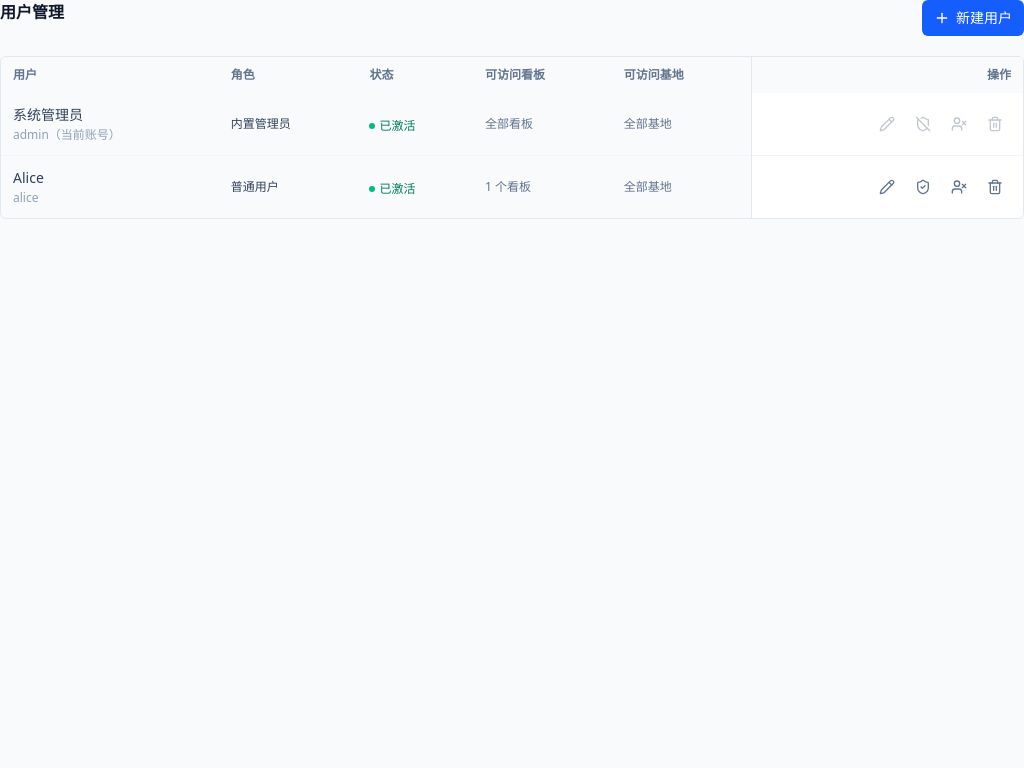
user administrator roles › saves an administrator role selected in the user editor
Click the button named "编辑用户" in the row of "普通用户" at (887,187), box [871,171,903,203]
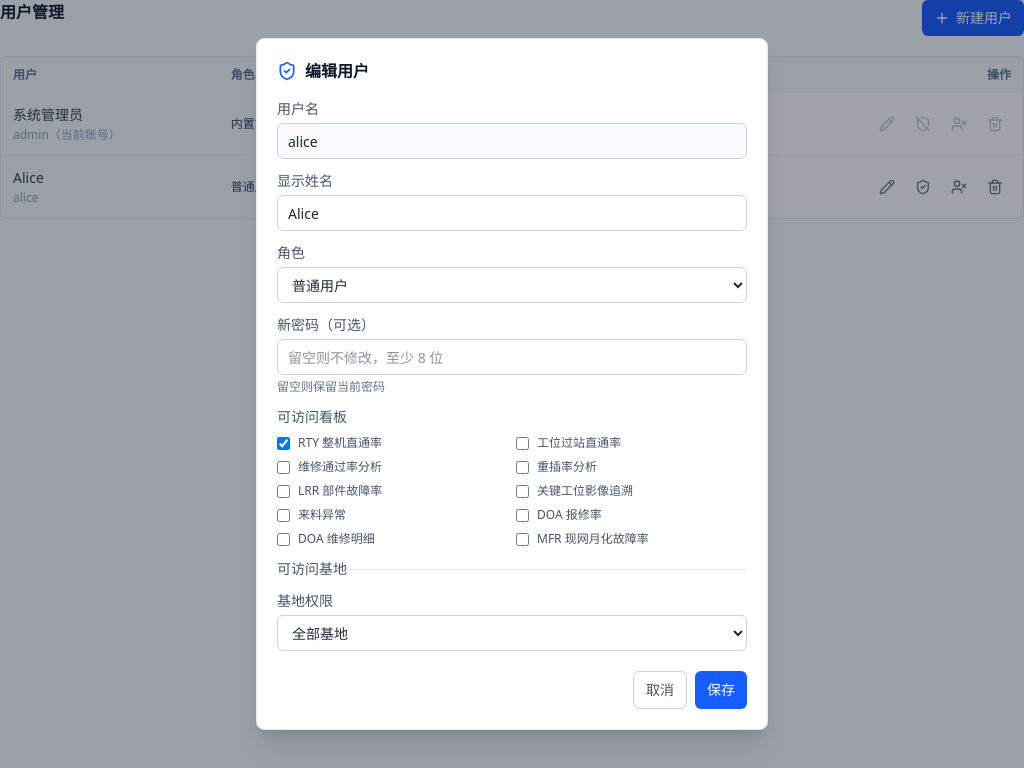
Select "管理员" in the dropdown labelled "角色" at (512,285), box [277,267,747,303]
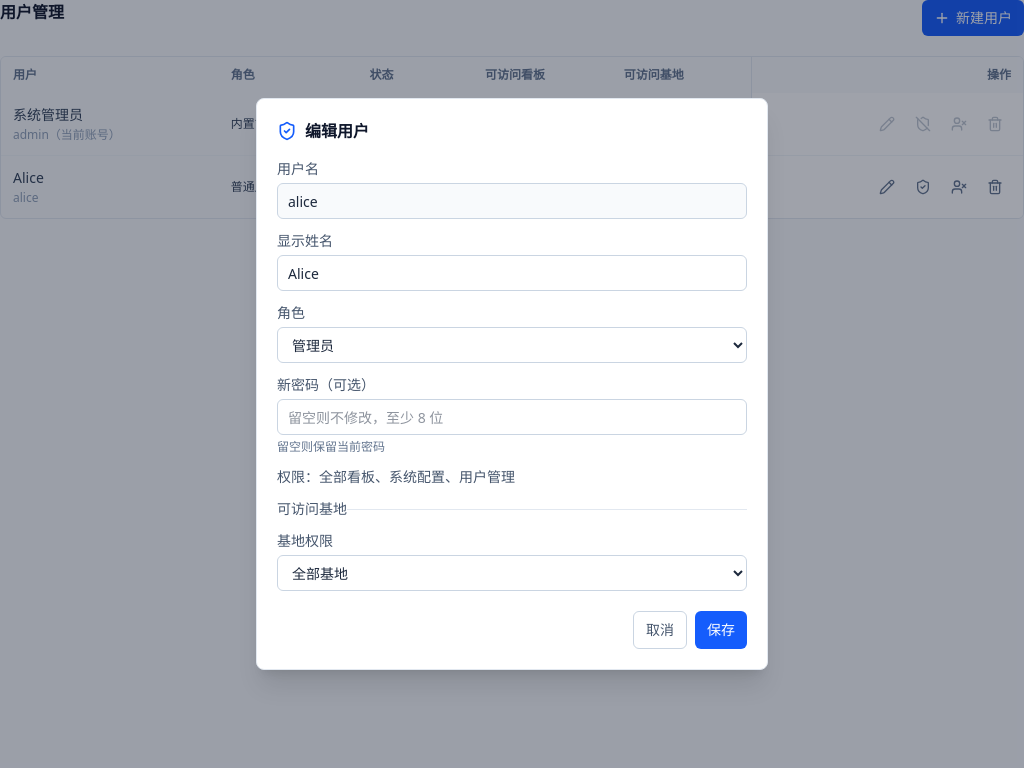
Click the button "保存" at (721,630), box [695,611,747,649]
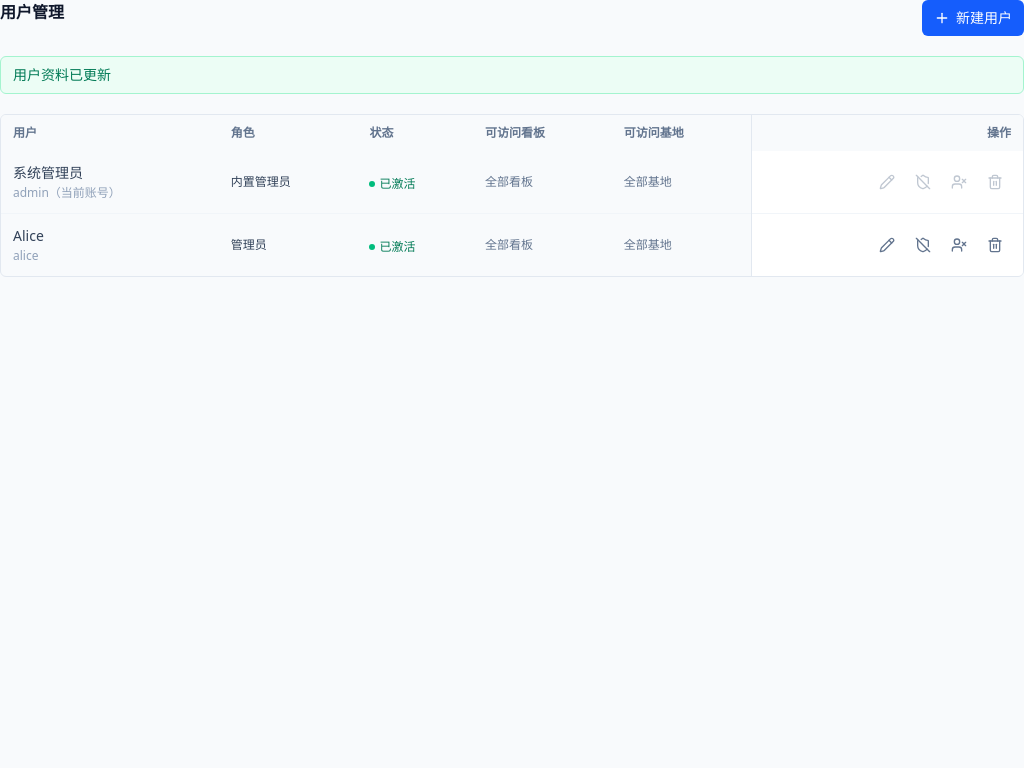
expect the row "Alice alice 管理员 已激活 全部看板 全部基地" is shown: met, box [1,214,1023,276]
expect the dialog is gone: met
